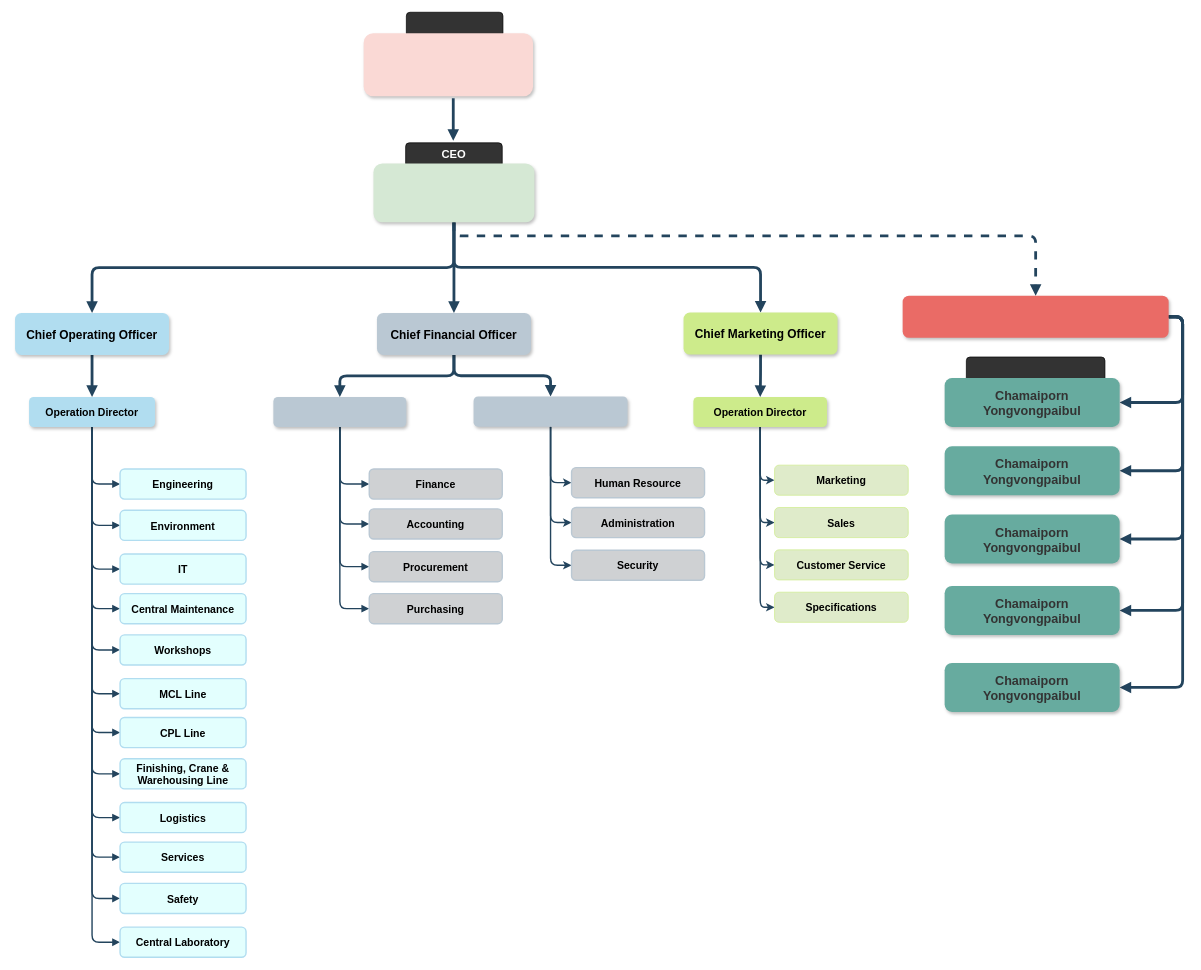
Image size: 1201x970. Some labels were removed from this diagram. Here are the shapes that lost their labels. From the top down, the centre of each, then its label:
point (454, 24): CHAIRMAN
point (448, 65): Chamaiporn Yongvongphaiboon
point (454, 193): Natthaporn Yongvongphaiboon
point (1035, 317): Advisory Board
point (1035, 369): ADVISORY BOARD CHAIRMAN
point (340, 413): Finance & Accounting Director
point (550, 412): Human Resource & Government Affairs Director
